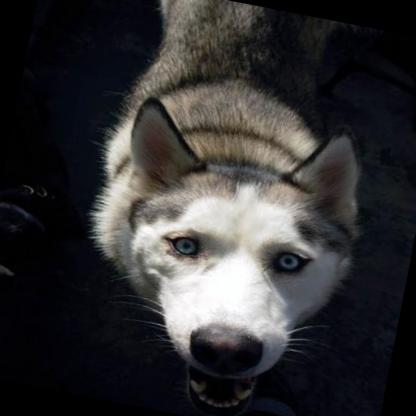Eskimo_dog: (57, 0, 402, 416)
